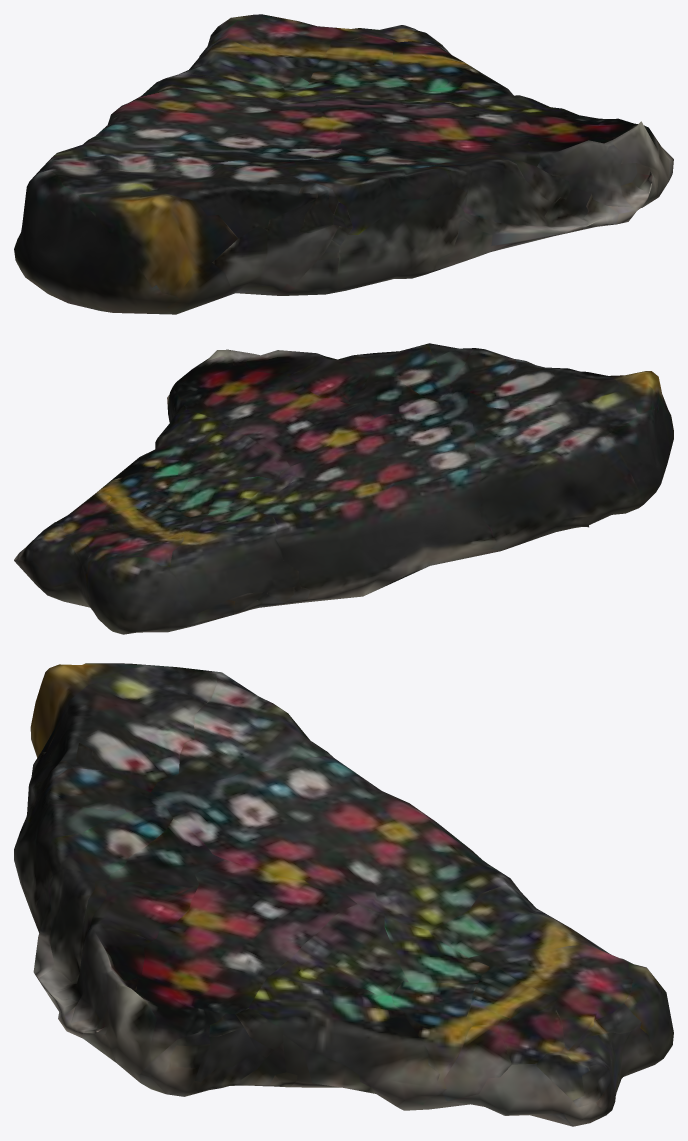
Rendered from hall.glb.
3 renders of one model, top to bottom at view 1: azimuth 30°, elevation 25°; view 2: azimuth 150°, elevation 25°; view 3: azimuth 270°, elevation 25°, orthographic. The views are drawn at different scales.
Size of the model in its own units: 0.5335 by 0.1751 by 0.4829.
1 material, 1 textured.
